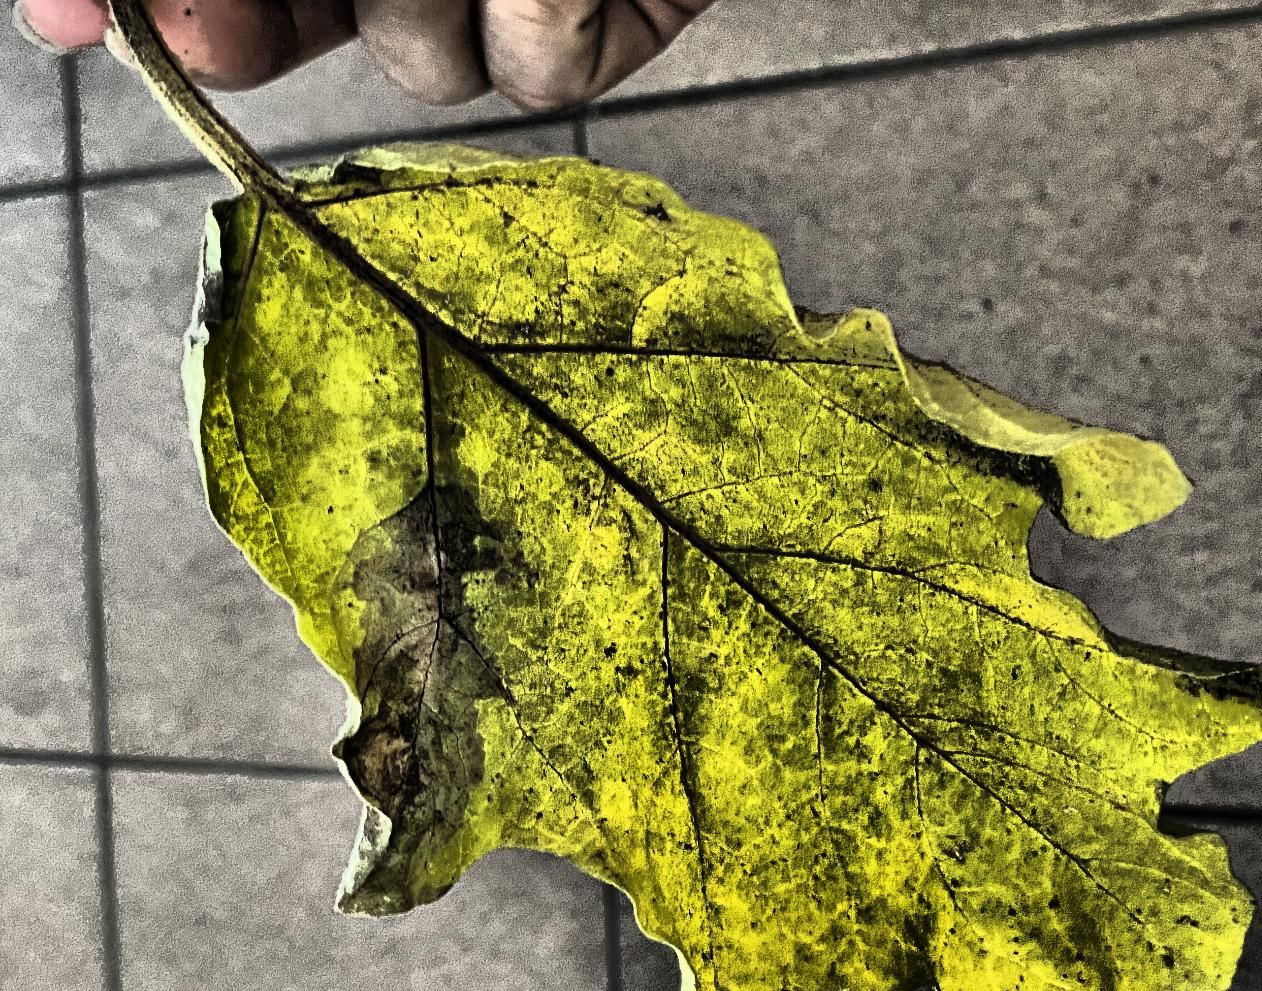Critical Stress: (0, 84, 882, 991)
